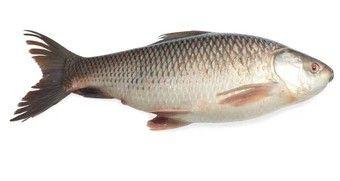Indian Carp: (13, 27, 336, 131)
